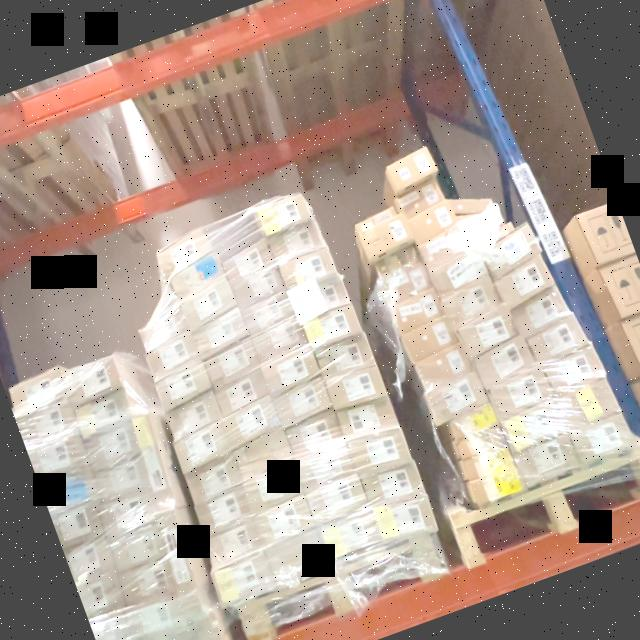box: (132, 407, 173, 504), (160, 510, 200, 606), (544, 343, 608, 400), (512, 433, 579, 487), (487, 364, 553, 418), (503, 400, 568, 454), (498, 253, 557, 311), (454, 304, 517, 358), (483, 221, 543, 277), (475, 333, 536, 388), (425, 372, 487, 426), (557, 379, 622, 430), (570, 412, 634, 463), (173, 419, 234, 472), (528, 313, 590, 364), (212, 552, 274, 603), (512, 287, 574, 338), (288, 276, 351, 326), (442, 277, 502, 327), (66, 355, 122, 408), (146, 332, 203, 384), (195, 485, 253, 536), (296, 441, 353, 492), (155, 363, 212, 414), (257, 493, 315, 543), (9, 365, 68, 414), (97, 492, 158, 539), (430, 250, 489, 298), (193, 305, 248, 356), (111, 522, 167, 572), (309, 474, 367, 522), (234, 429, 292, 477), (29, 436, 89, 482), (278, 375, 332, 426), (264, 345, 320, 394), (204, 522, 262, 569), (181, 278, 235, 328), (168, 390, 223, 439), (322, 512, 379, 559), (243, 463, 300, 510), (124, 598, 187, 640), (76, 391, 131, 439), (120, 559, 177, 605), (391, 286, 443, 336), (373, 497, 436, 538), (403, 317, 456, 365), (358, 215, 412, 262), (327, 366, 387, 408), (225, 396, 281, 441), (366, 464, 424, 507), (339, 396, 398, 438), (205, 339, 260, 384), (317, 334, 373, 378), (85, 428, 141, 472), (417, 343, 468, 391), (156, 230, 210, 275), (306, 303, 361, 347), (407, 195, 456, 244), (188, 458, 241, 503), (97, 459, 151, 503), (268, 532, 323, 575), (351, 430, 410, 470), (17, 407, 77, 446), (41, 473, 98, 514), (70, 535, 118, 583), (386, 147, 438, 191), (382, 265, 434, 309), (217, 370, 271, 412), (469, 466, 524, 507), (174, 253, 224, 297), (271, 220, 323, 262), (254, 322, 305, 364), (225, 241, 274, 284), (396, 177, 447, 218), (280, 249, 332, 289), (77, 575, 126, 617), (233, 265, 284, 305), (290, 414, 343, 452), (54, 508, 104, 548), (243, 293, 294, 332), (139, 309, 185, 352), (448, 403, 497, 443), (257, 196, 308, 234), (461, 445, 513, 481), (419, 227, 467, 265), (472, 218, 519, 253), (372, 246, 418, 281), (457, 431, 505, 458), (91, 614, 134, 640), (355, 207, 397, 232), (447, 196, 497, 213)
